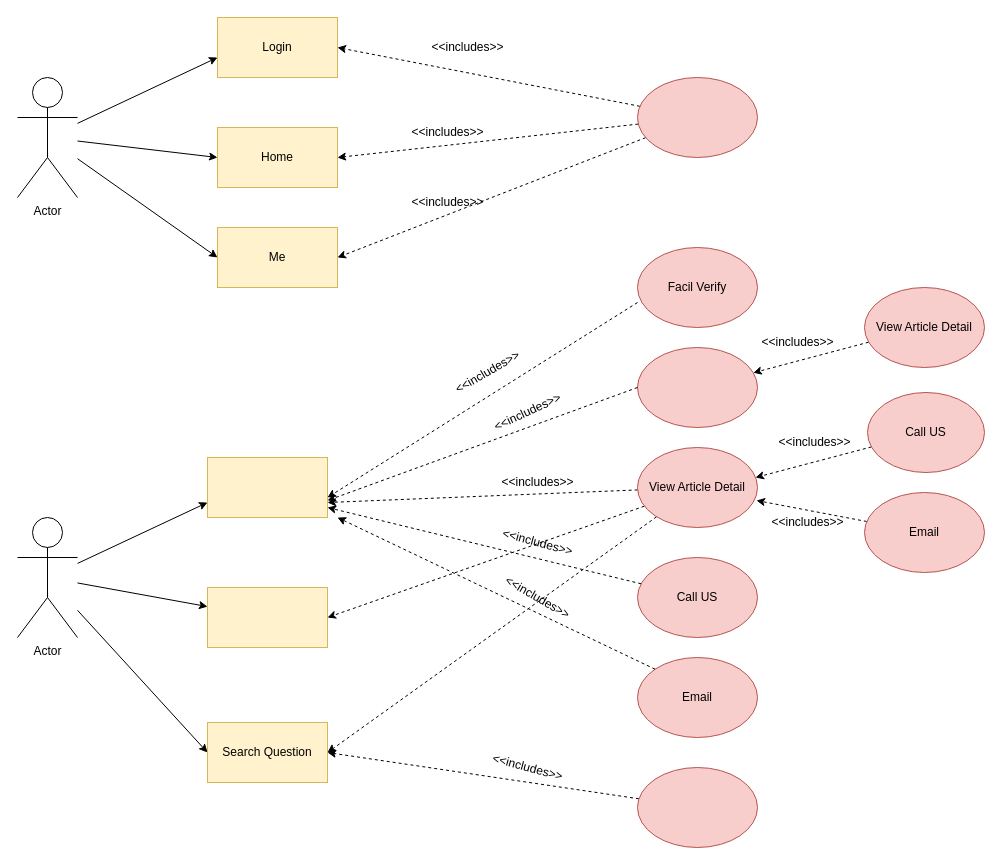
Some shapes in this 1002 by 865 pixel diagram are drawn without their labels. Here are the shapes that lost their labels. From the top down, the centre of each, then its label:
the point at 697,117: View Help center
the point at 697,387: View Hot Question
the point at 267,487: View Help Center Home
the point at 267,617: View Category
the point at 697,807: Search Article
